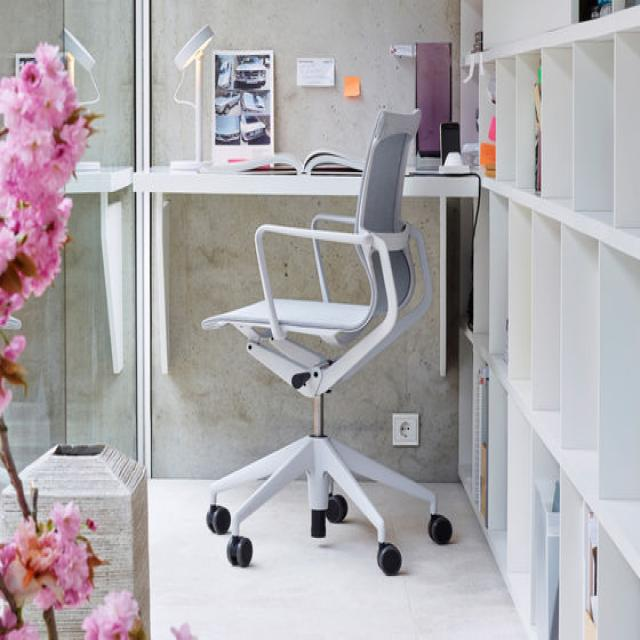chair: (200, 105, 453, 575)
